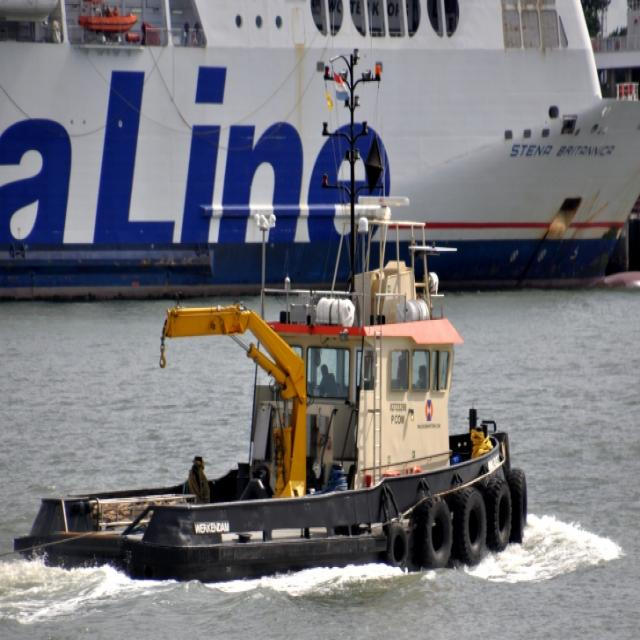tugboat: (11, 188, 533, 601)
